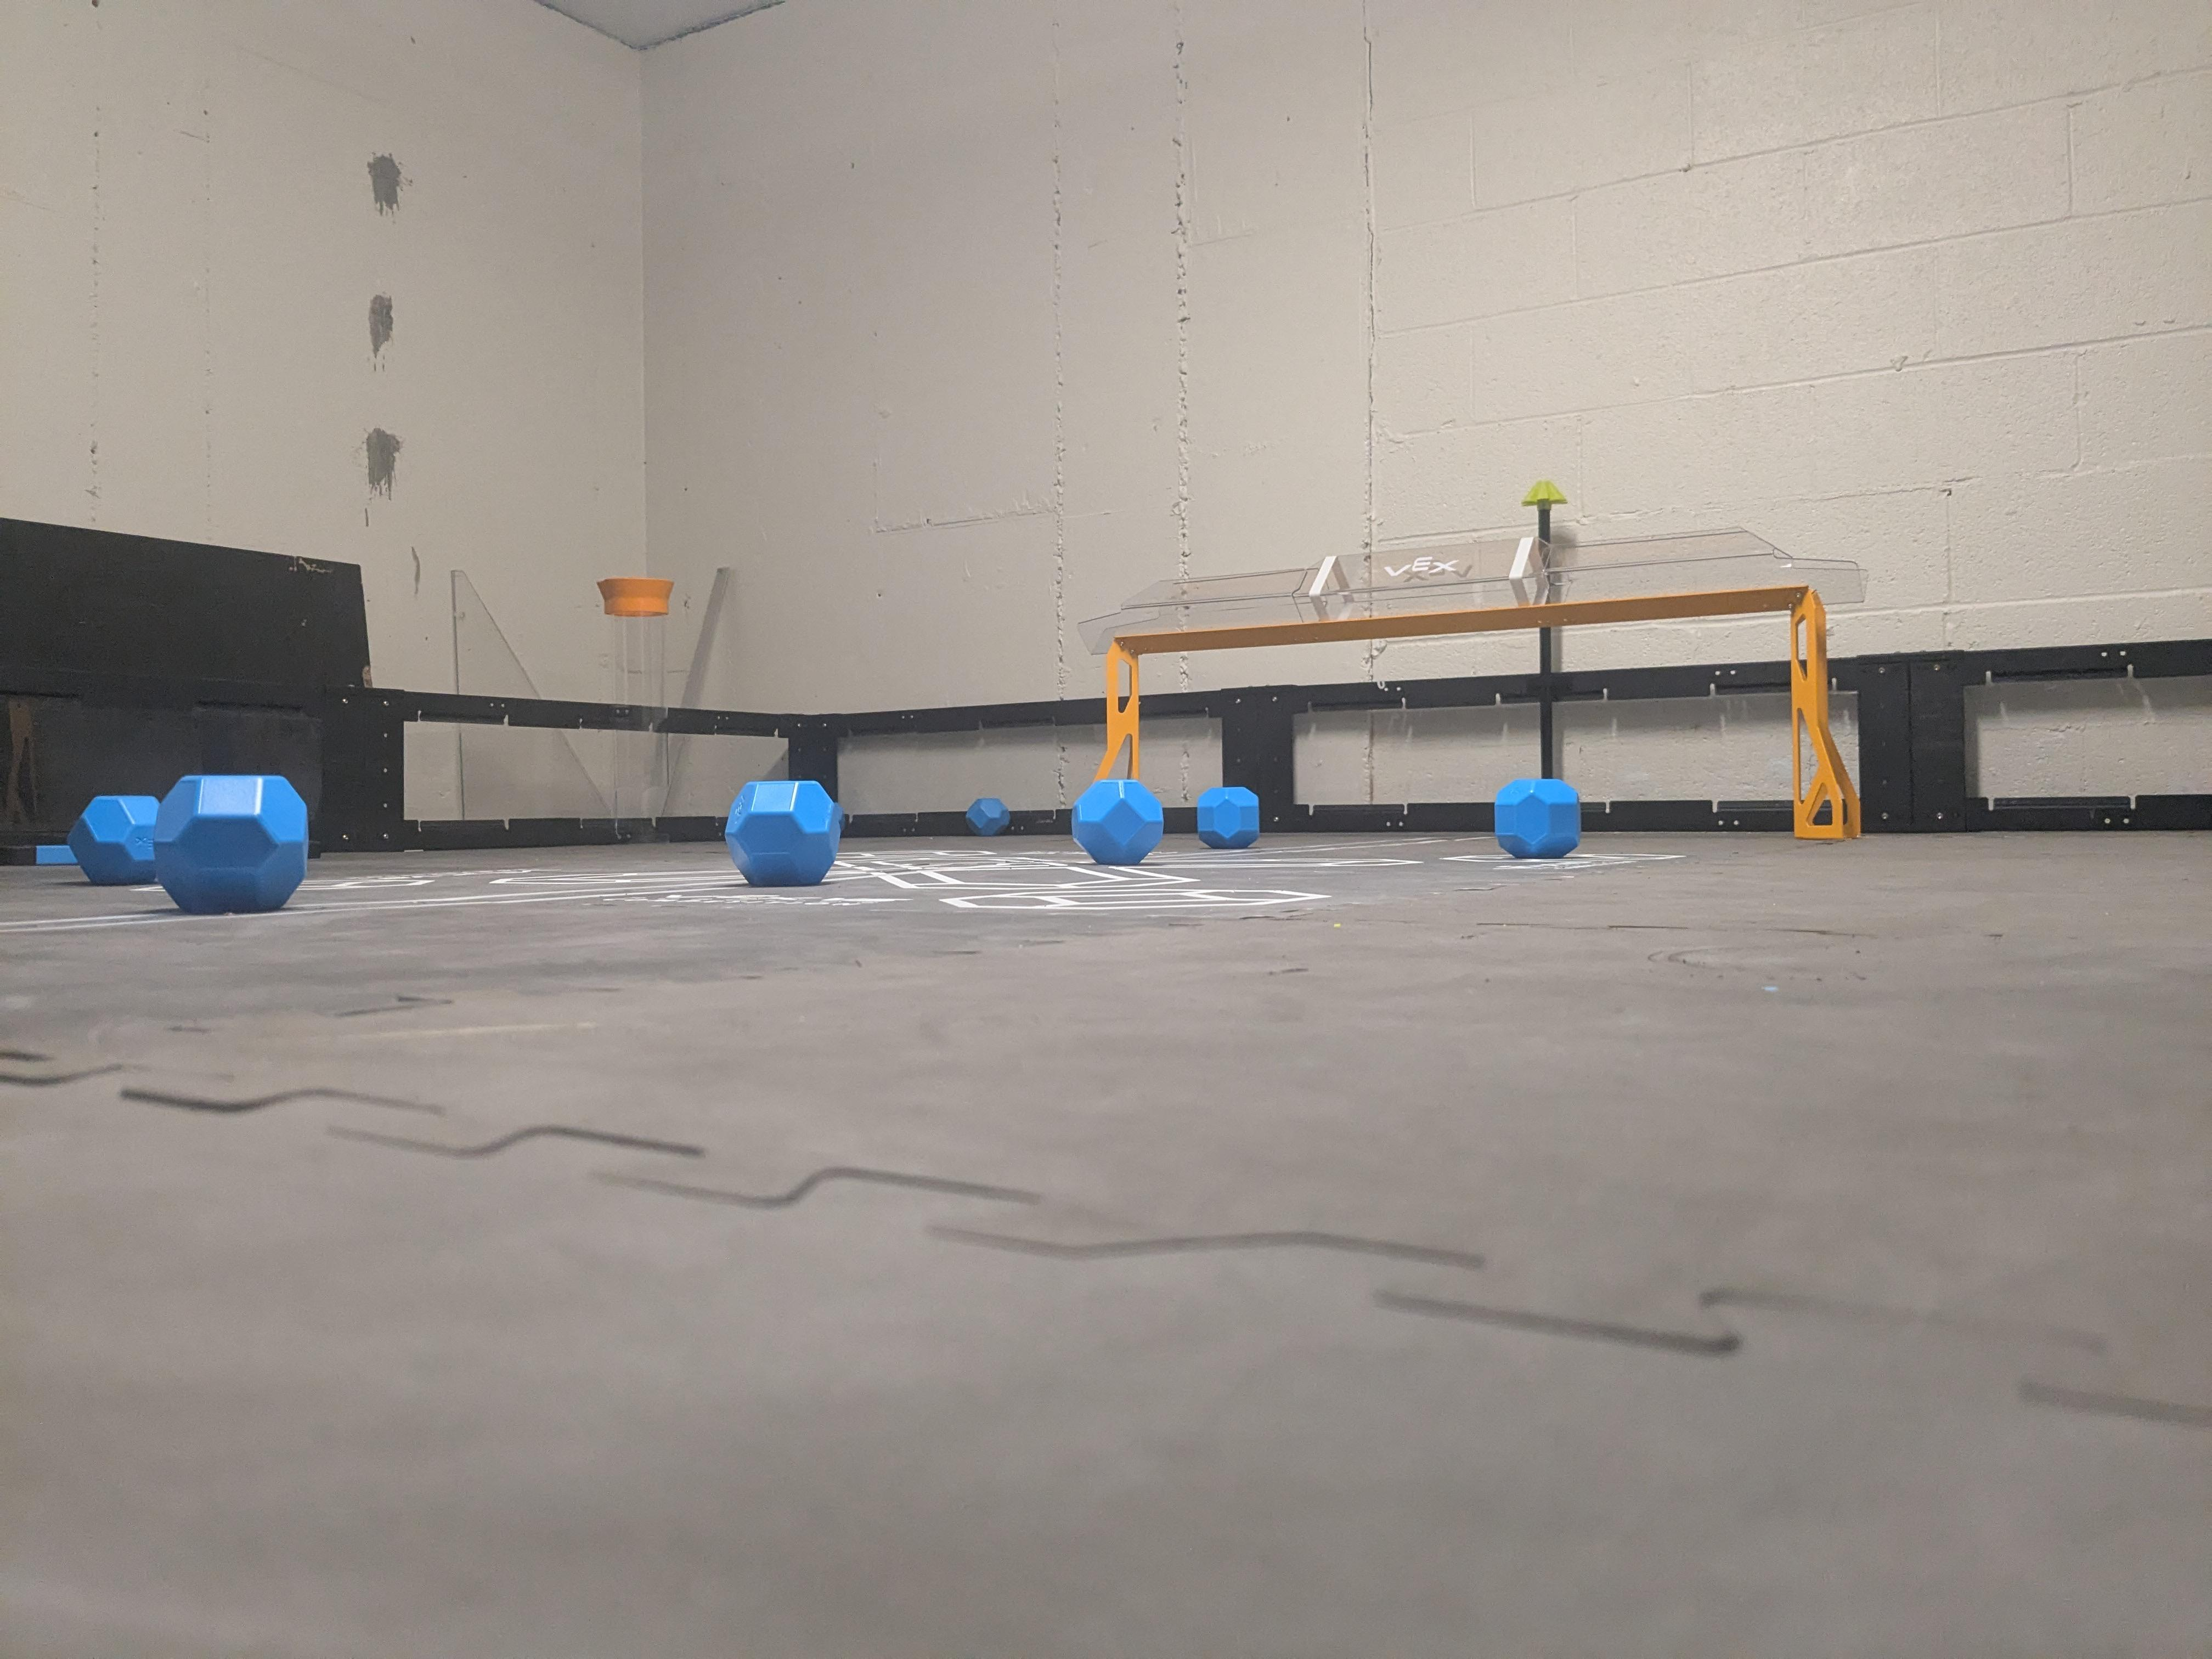Vex-Pieces-BLUE: (96, 774, 307, 910), (725, 781, 840, 889), (1075, 781, 1160, 868), (1496, 781, 1583, 857), (1197, 786, 1259, 849), (965, 798, 1010, 836)
